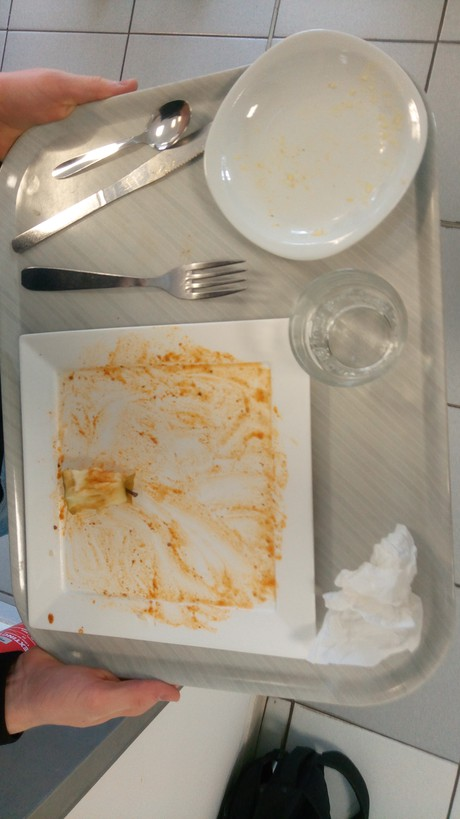cup: (280, 272, 408, 395)
cutlery: (1, 89, 230, 266), (8, 259, 268, 300)
orga: (51, 457, 151, 517)
trash: (311, 525, 446, 668)
